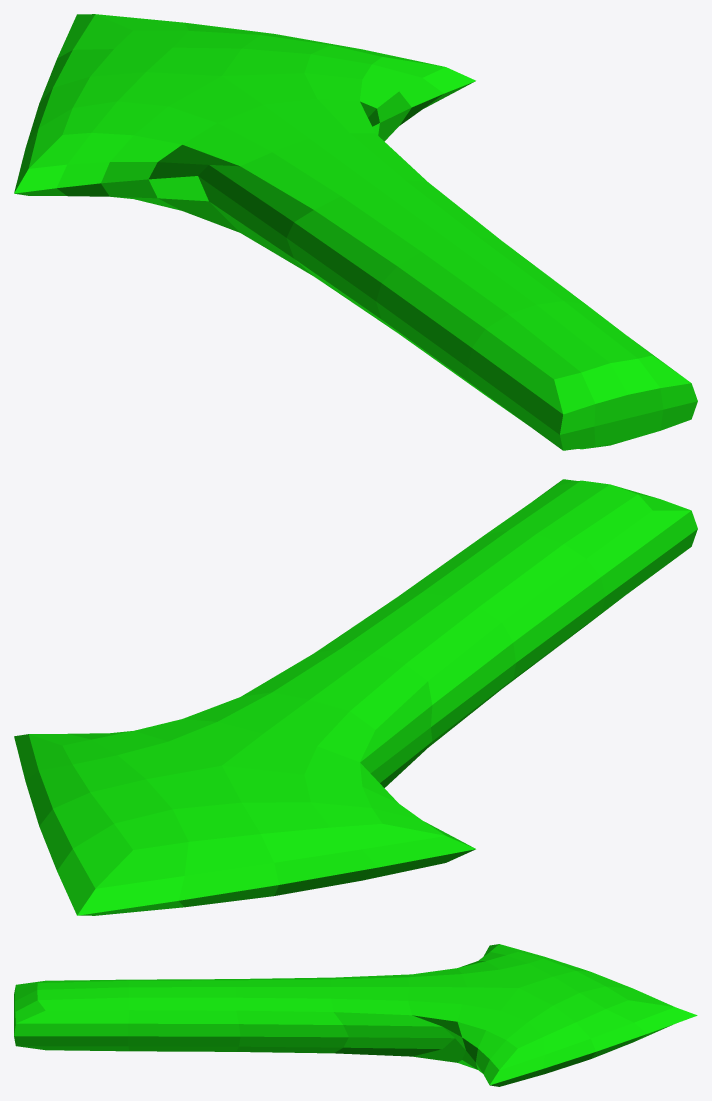
File: arrow.glb
3 renders of one model, top to bottom at view 1: azimuth 30°, elevation 25°; view 2: azimuth 150°, elevation 25°; view 3: azimuth 270°, elevation 25°, orthographic. The views are drawn at different scales.
Parts seen in each view (by area): view 1: Cube; view 2: Cube; view 3: Cube.
Boxes of the visible parts, x1,y1,x2,y2 form: Cube: [14, 14, 697, 450]; Cube: [14, 479, 697, 915]; Cube: [14, 944, 697, 1086].
Size of the model in its own units: 1.95 by 0.3694 by 4.03.
